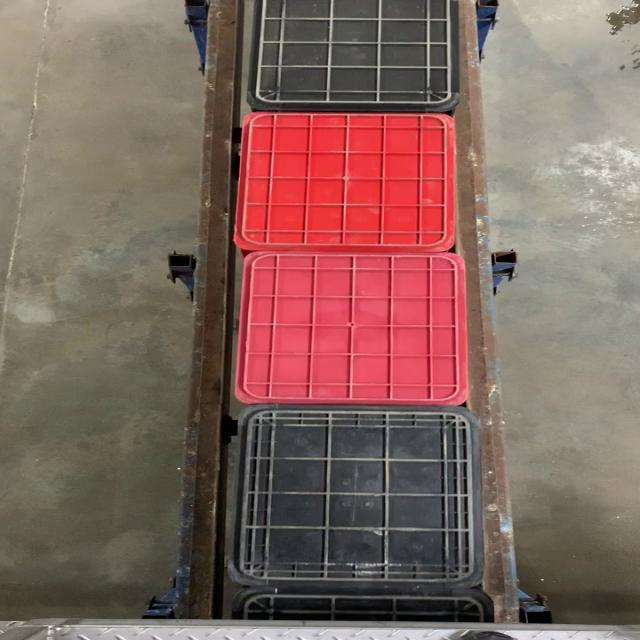Box: (228, 406, 486, 588), (236, 250, 468, 406), (226, 109, 460, 251)
